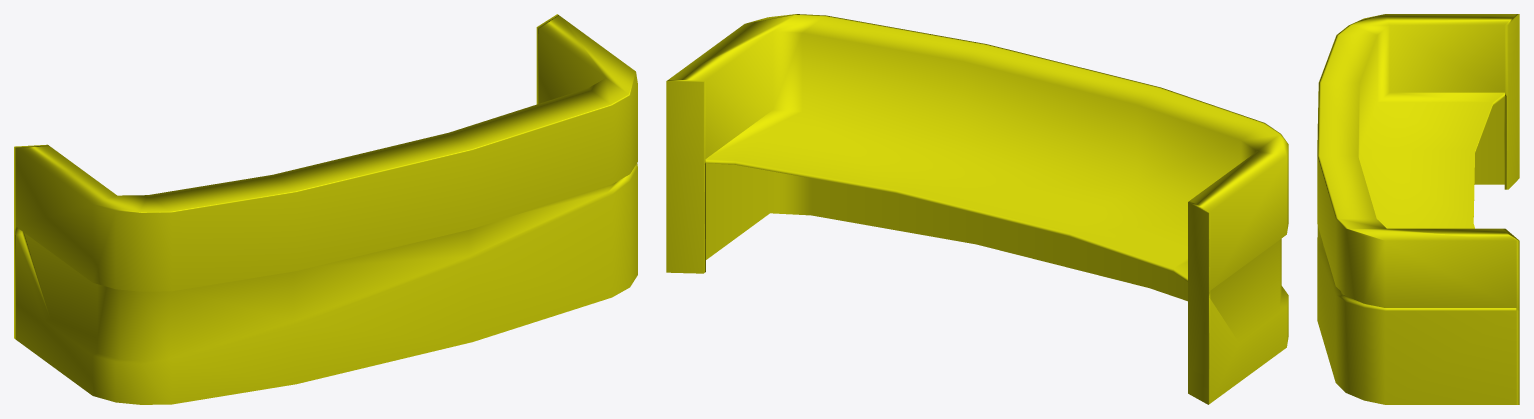
Rendered from ESCRITORIO.fbx.
3 renders of one model, left to right at view 1: azimuth 30°, elevation 25°; view 2: azimuth 150°, elevation 25°; view 3: azimuth 270°, elevation 25°, orthographic. The views are drawn at different scales.
Visible parts, largest first — view 1: ESCRITORIO; view 2: ESCRITORIO; view 3: ESCRITORIO.
Boxes of the visible parts, x1=… form: ESCRITORIO: x1=14, y1=14, x2=637, y2=404; ESCRITORIO: x1=666, y1=14, x2=1288, y2=404; ESCRITORIO: x1=1317, y1=14, x2=1519, y2=404.
Size of the model in its own units: 3.82 by 1.29 by 1.44.
